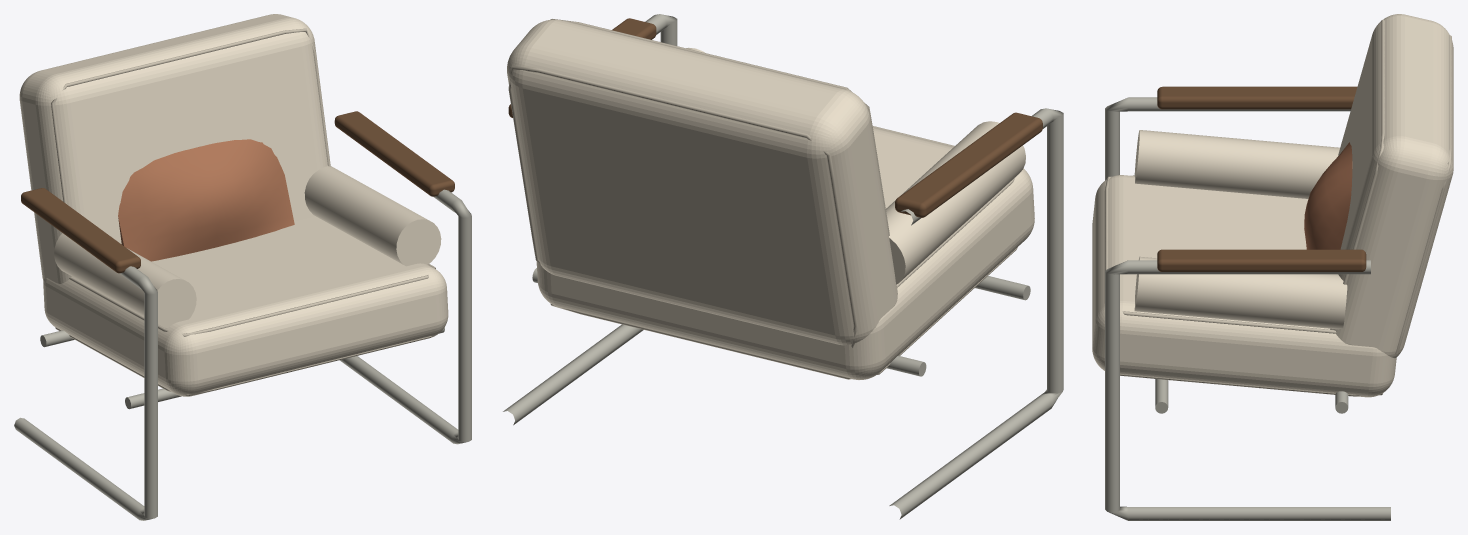
The model's file is atelier-cantilever-ivory.glb.
The picture shows the model from 3 angles, left to right: view 1: azimuth 30°, elevation 25°; view 2: azimuth 150°, elevation 25°; view 3: azimuth 270°, elevation 25°; orthographic projection. The views are drawn at different scales.
Bounding box in the file's own units: 0.832 × 0.801 × 0.7221.
